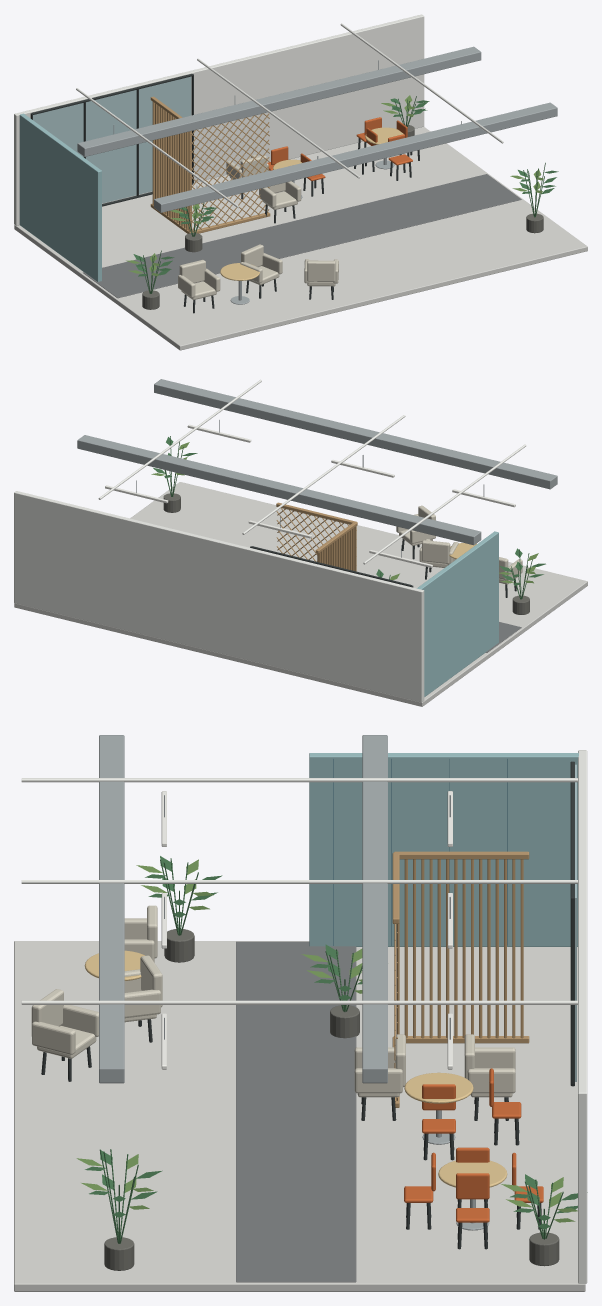
Rendered from con-methodology-interior-ea8f5af65e14.glb.
The picture shows the model from 3 angles, top to bottom: view 1: azimuth 30°, elevation 25°; view 2: azimuth 150°, elevation 25°; view 3: azimuth 270°, elevation 25°; orthographic projection. The views are drawn at different scales.
Visible parts, largest first — view 1: con-methodology; view 2: con-methodology; view 3: con-methodology.
Part boxes in pixels (x1,y1,x2,y2): con-methodology: [14, 14, 587, 350]; con-methodology: [14, 379, 587, 706]; con-methodology: [14, 735, 587, 1291].
Bounding box in the file's own units: 10.84 × 3.25 × 7.63.
